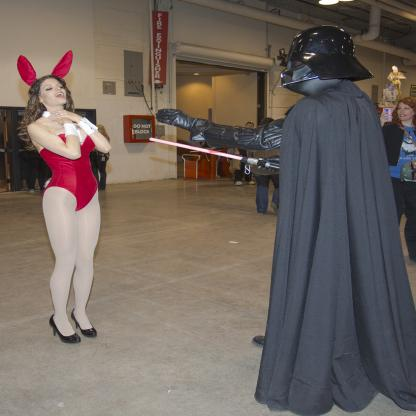Helmet: (286, 27, 370, 89)
